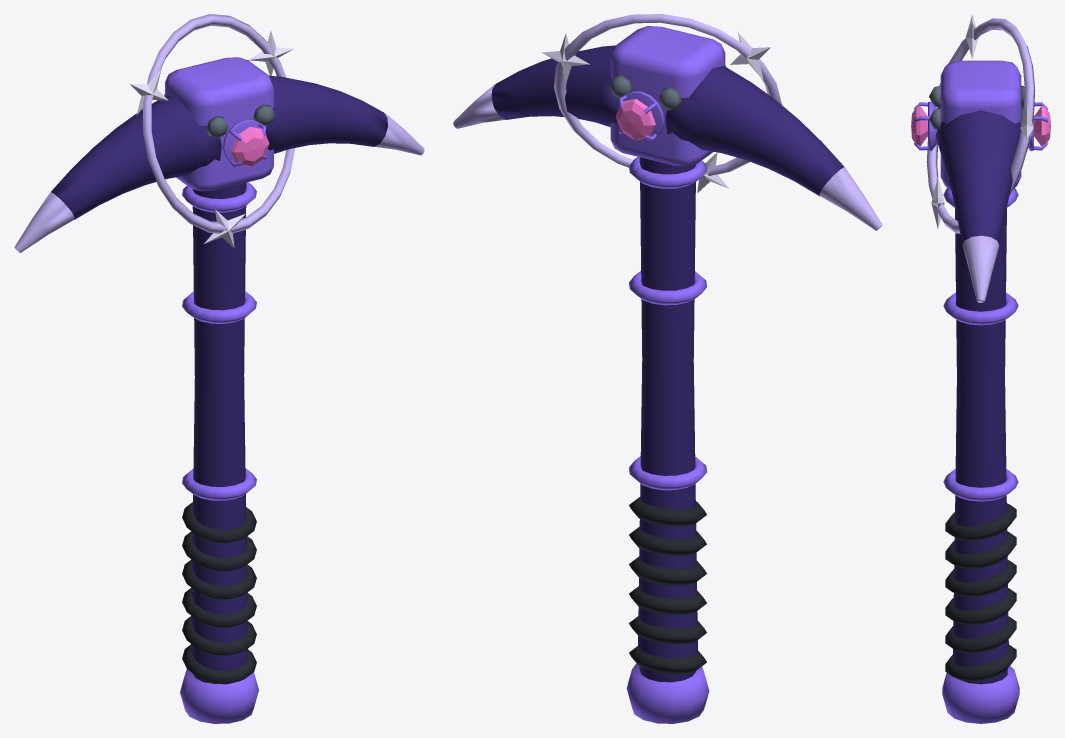
File: Tool_T17.fbx
3 renders of one model, left to right at view 1: azimuth 30°, elevation 25°; view 2: azimuth 150°, elevation 25°; view 3: azimuth 270°, elevation 25°, orthographic. The views are drawn at different scales.
Visible parts, largest first — view 1: ToolT17Handle, ToolT17Head, ToolT17HeadGlow; view 2: ToolT17Handle, ToolT17Head, ToolT17HeadGlow; view 3: ToolT17Handle, ToolT17Head, ToolT17HeadGlow.
Boxes of the visible parts, left/top/right/bottom form: ToolT17Handle: left=180, top=182, right=258, bottom=723; ToolT17Head: left=51, top=57, right=387, bottom=219; ToolT17HeadGlow: left=14, top=14, right=424, bottom=252; ToolT17Handle: left=626, top=157, right=709, bottom=723; ToolT17Head: left=491, top=26, right=843, bottom=196; ToolT17HeadGlow: left=453, top=14, right=882, bottom=230; ToolT17Handle: left=942, top=188, right=1019, bottom=723; ToolT17Head: left=913, top=60, right=1048, bottom=244; ToolT17HeadGlow: left=911, top=14, right=1050, bottom=302.
Size of the model in its own units: 279 by 444 by 83.02.
